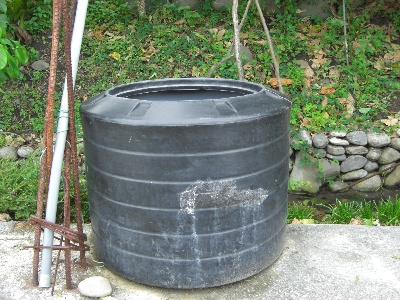bucket: (79, 77, 292, 289)
